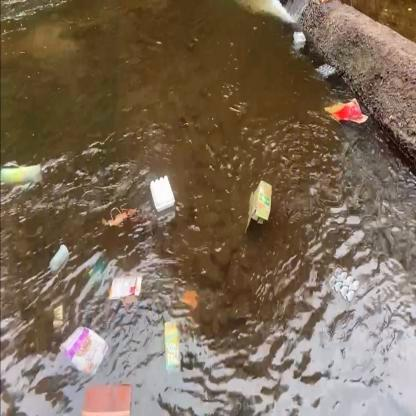Metal: (0, 158, 46, 192)
Plastic: (324, 262, 362, 308), (148, 172, 177, 216), (47, 244, 70, 280), (312, 61, 340, 80), (290, 29, 309, 48)
